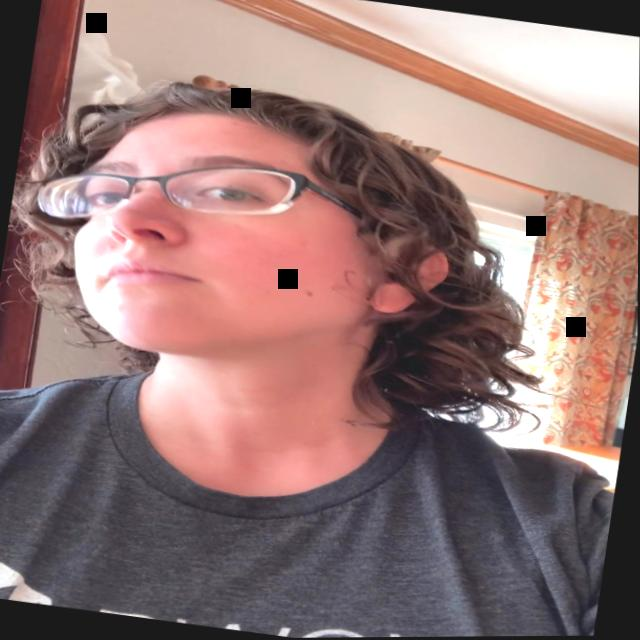NO-Mask: (50, 89, 392, 382)
